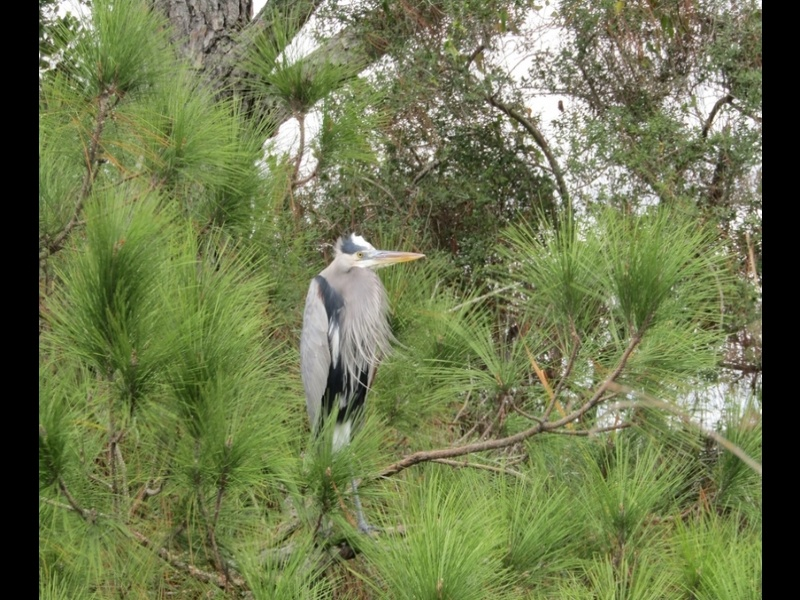heron: (295, 227, 429, 478)
